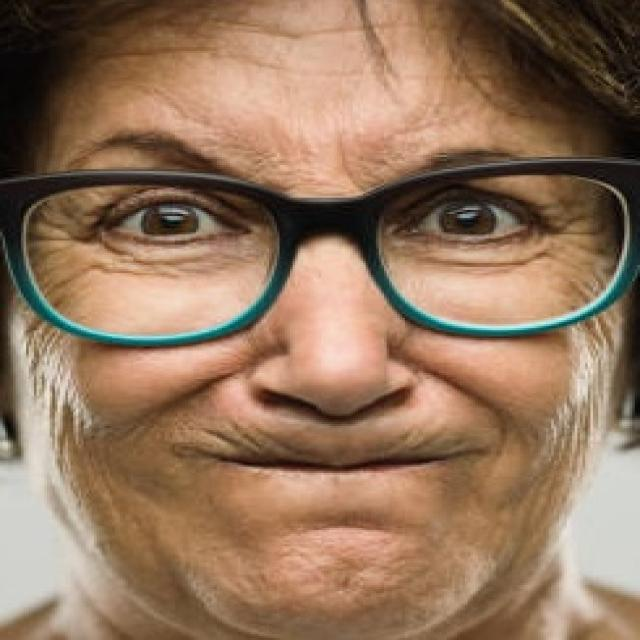Anxiety: (2, 0, 637, 638)
